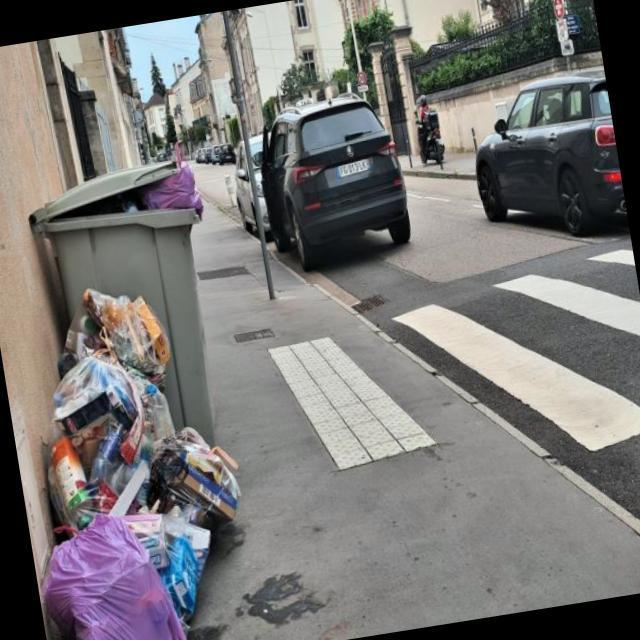garbage: (0, 198, 264, 640)
